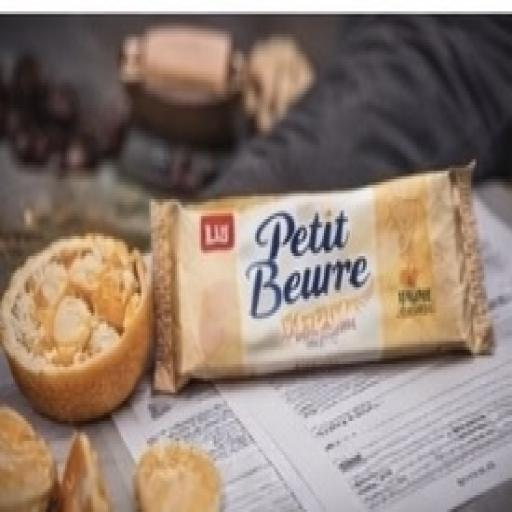petit-beurre: (116, 132, 509, 414)
